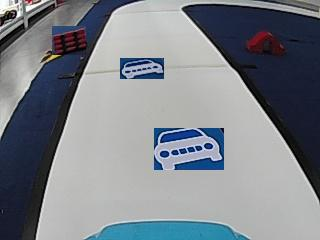bridge: (244, 30, 284, 54)
